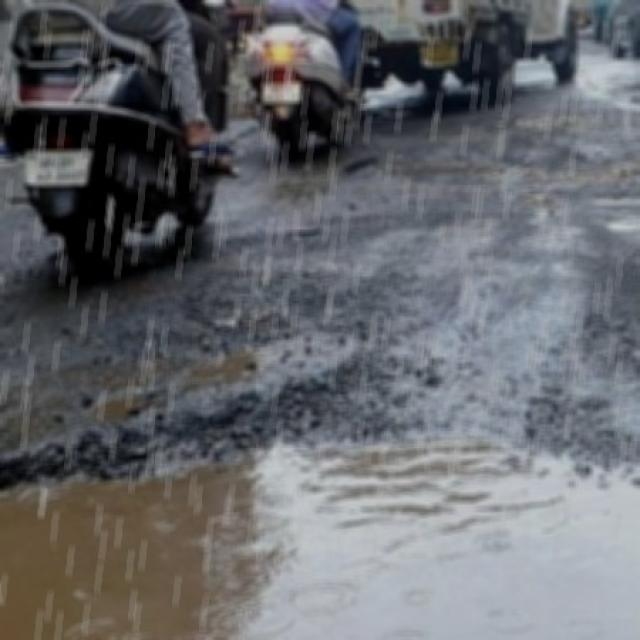road-pothole: (0, 419, 639, 639)
